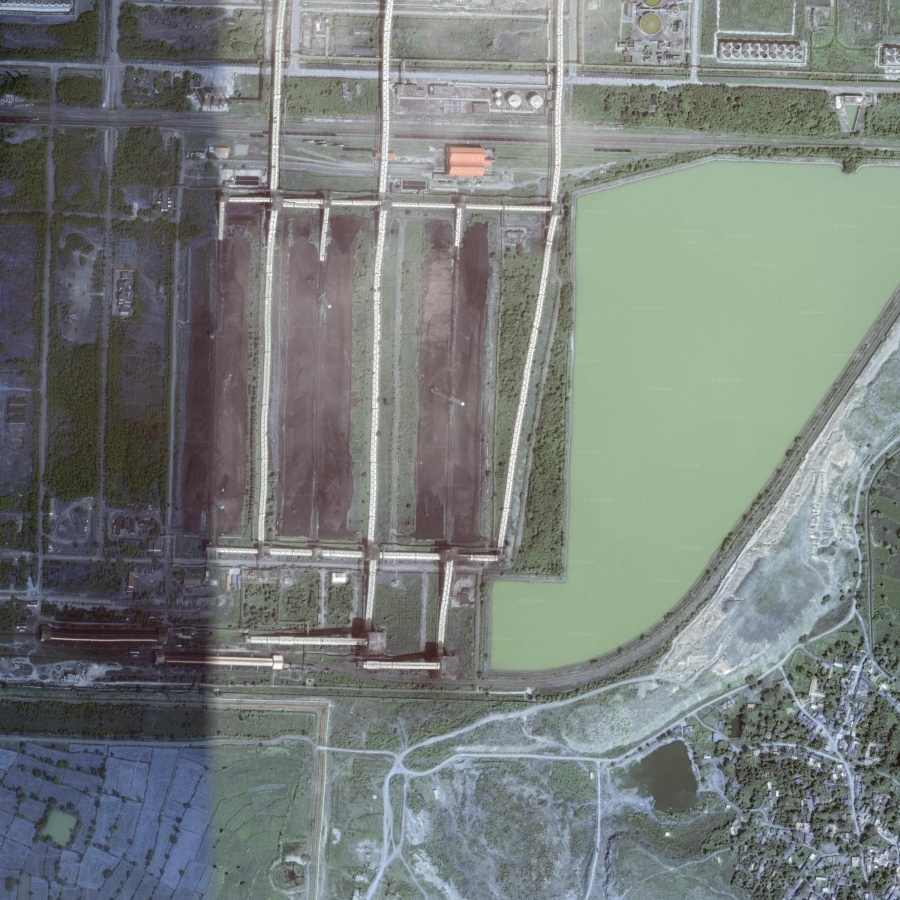PowerPlant: (172, 179, 531, 574)
